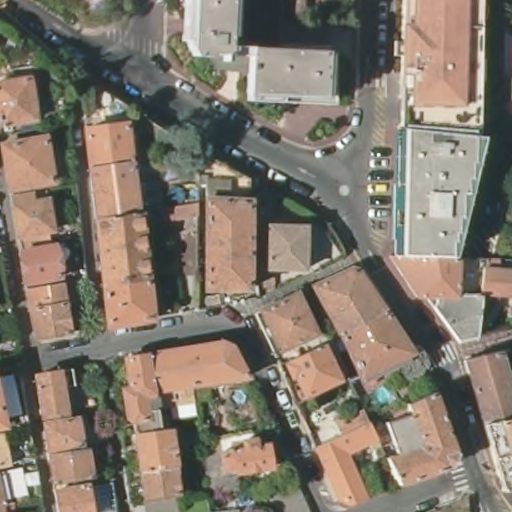pool: (371, 386, 392, 407), (229, 387, 249, 408)
